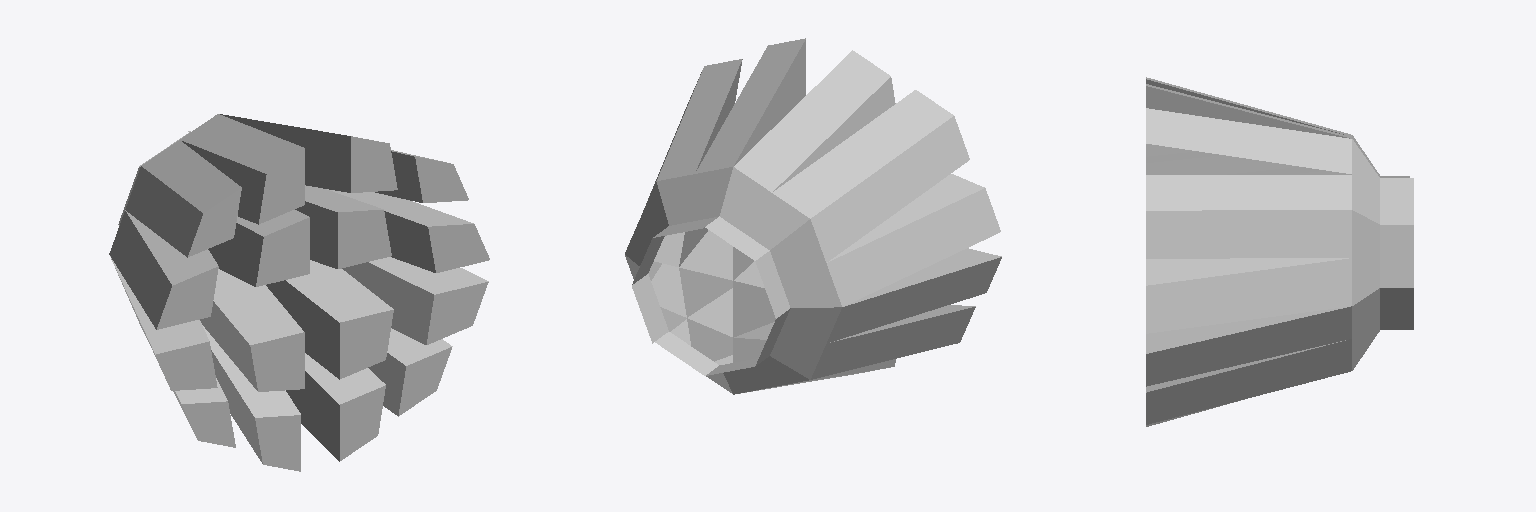
Rendered from carrot_top.obj.
3 renders of one model, left to right at view 1: azimuth 30°, elevation 25°; view 2: azimuth 150°, elevation 25°; view 3: azimuth 270°, elevation 25°, orthographic.
Parts seen in each view (by area): view 1: Cylinder.001; view 2: Cylinder.001; view 3: Cylinder.001.
Boxes of the visible parts, x1,y1,x2,y2 form: Cylinder.001: [109, 114, 489, 471]; Cylinder.001: [625, 38, 1001, 394]; Cylinder.001: [1146, 77, 1413, 426].
Size of the model in its own units: 0.3052 by 0.2815 by 0.211.